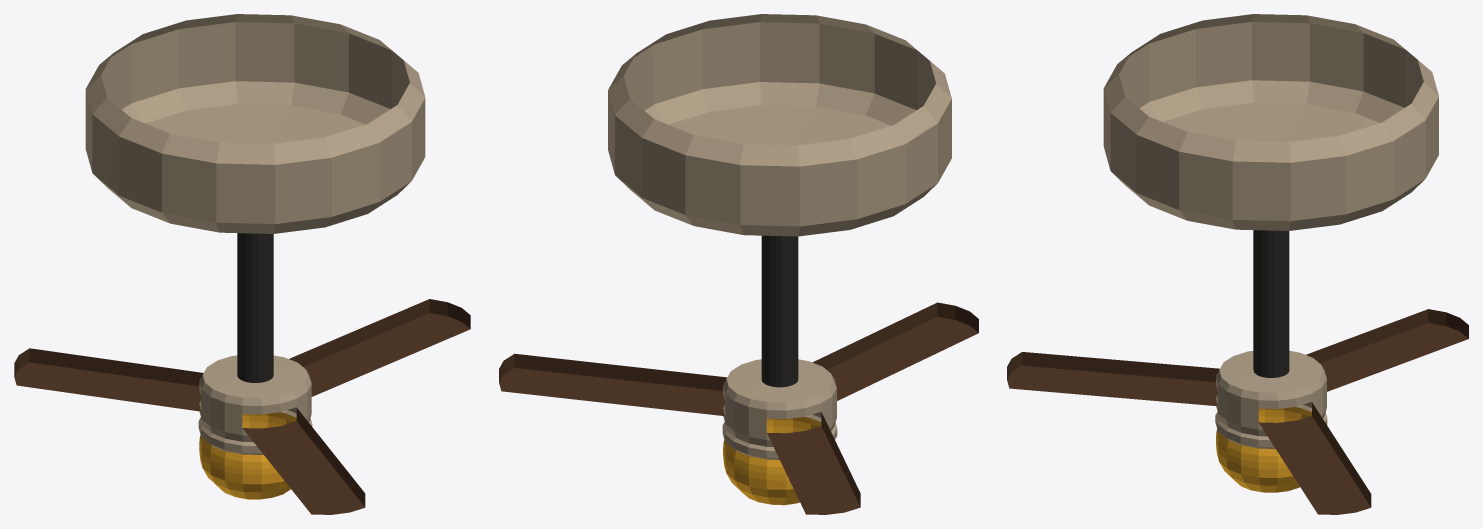
Rendered from ventelztor.fbx.
3 renders of one model, left to right at view 1: azimuth 30°, elevation 25°; view 2: azimuth 150°, elevation 25°; view 3: azimuth 270°, elevation 25°, orthographic. The views are drawn at different scales.
Parts seen in each view (by area): view 1: ventelztor; view 2: ventelztor; view 3: ventelztor.
Part boxes in pixels (left/top/right/bottom): ventelztor: left=14, top=14, right=470, bottom=514; ventelztor: left=499, top=14, right=978, bottom=514; ventelztor: left=1007, top=14, right=1468, bottom=514.
Size of the model in its own units: 17.37 by 17.03 by 17.64.
